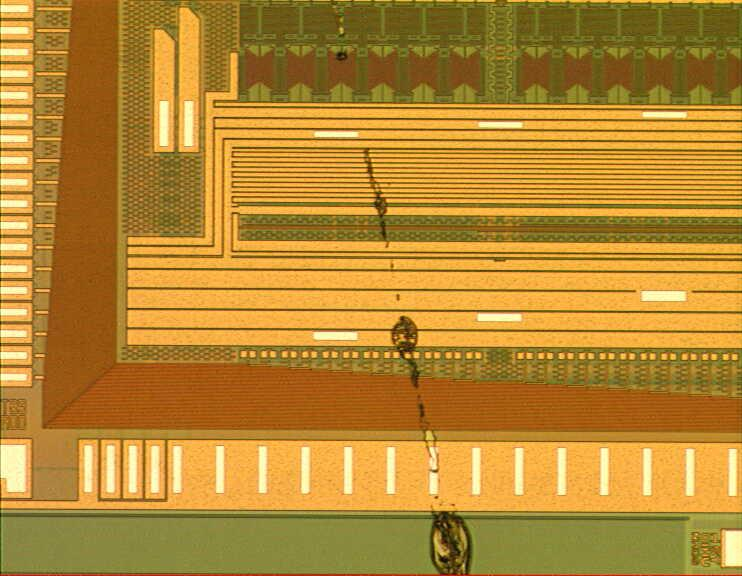SCRATCH: (319, 1, 482, 576)
